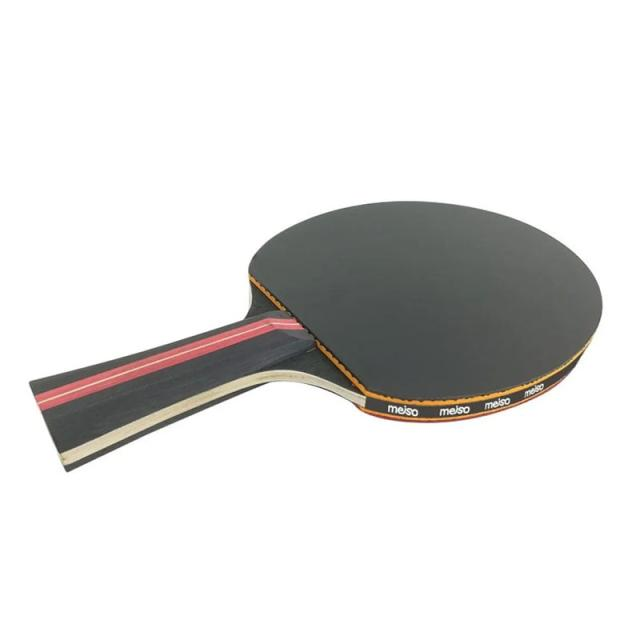TT Racket: (163, 142, 640, 512)
